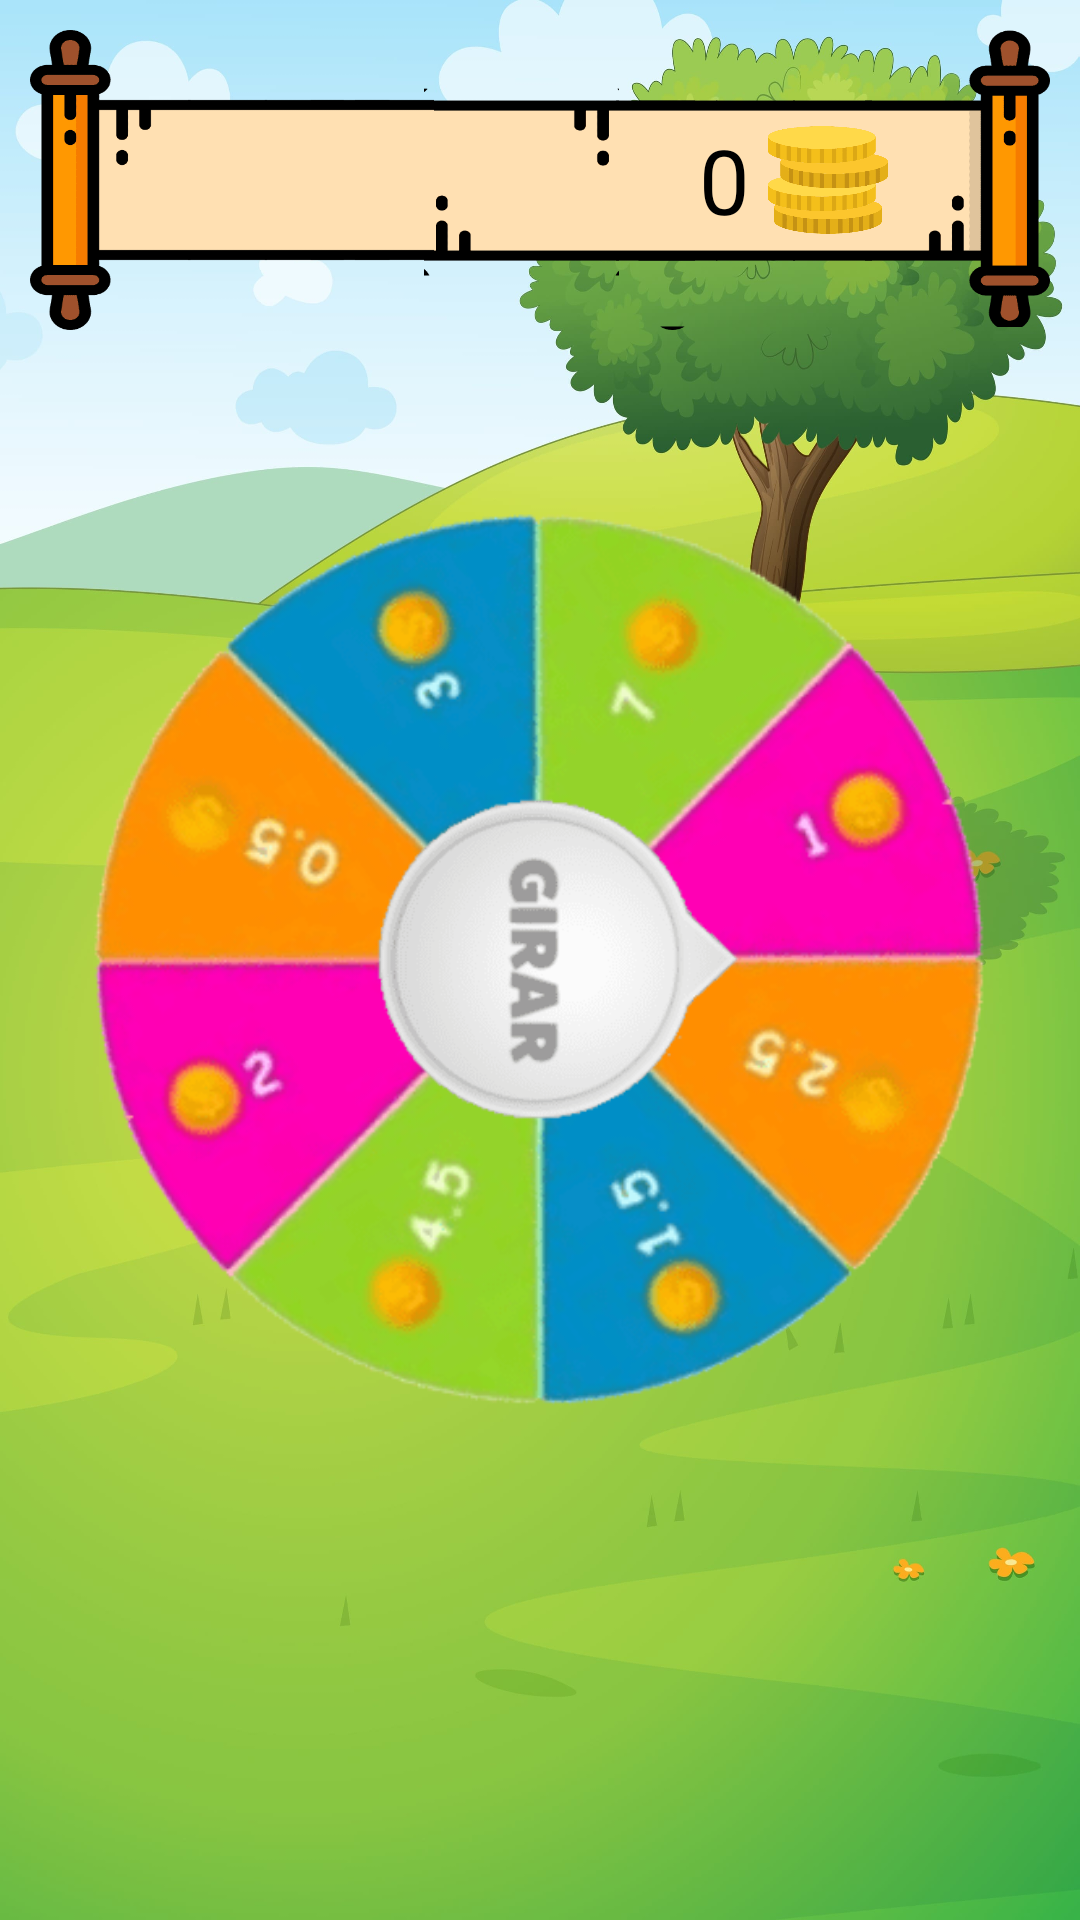

Point at icon controls on the screen. Image size 1080px x 1920px, points as (x,y).
monedas: (828,180)
